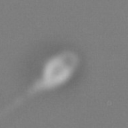normal: (1, 80, 43, 121)
